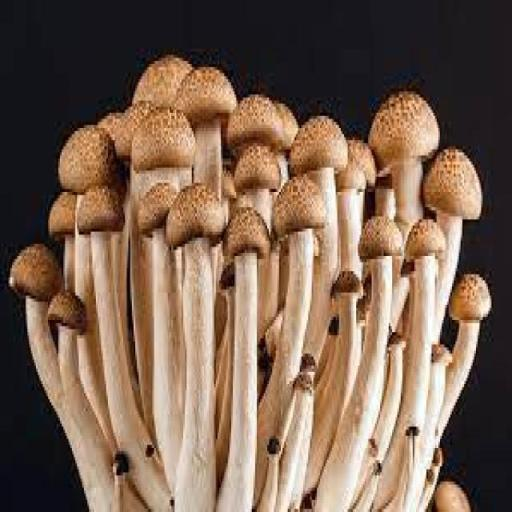Enoki Mushroom: (0, 52, 512, 512)
